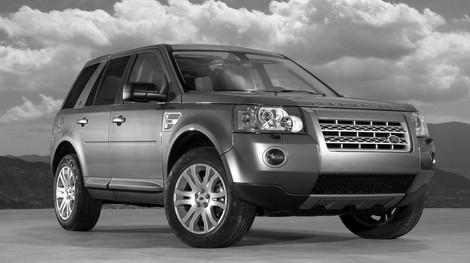car: (51, 46, 439, 250)
